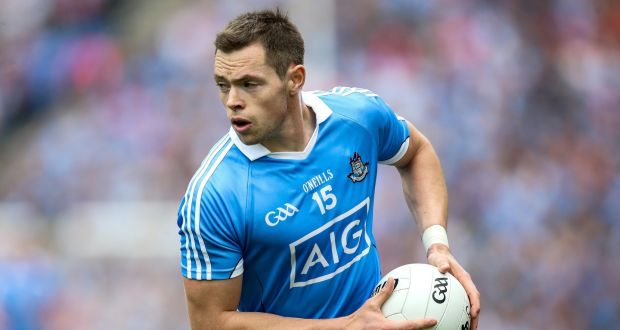ball: (355, 256, 477, 329)
player: (169, 5, 490, 327)
